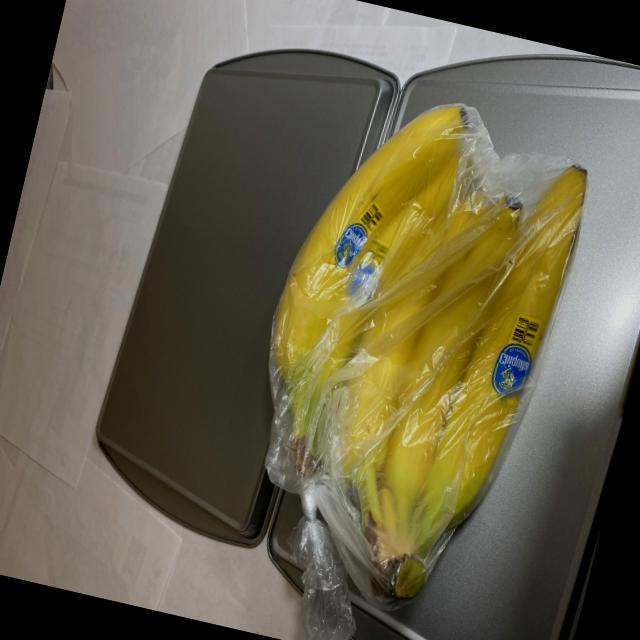banana: (214, 76, 608, 635)
